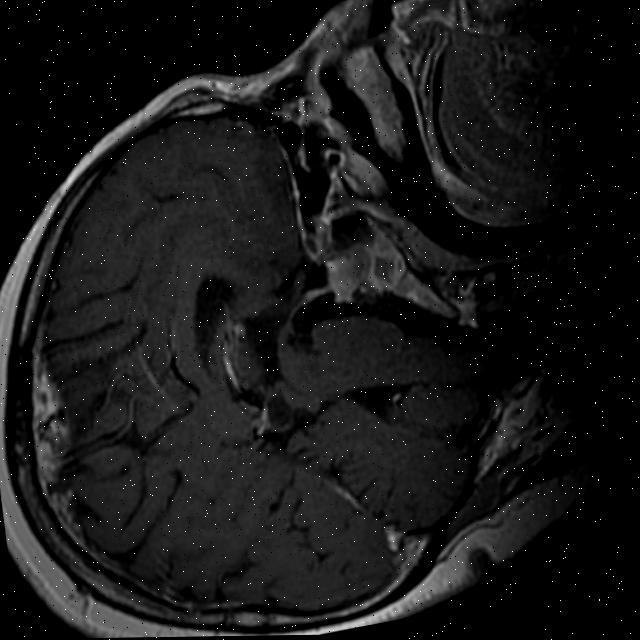Pituitary: (316, 217, 413, 307)
